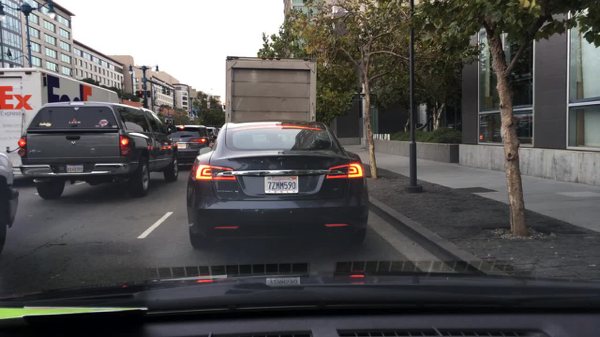car: (187, 122, 369, 249), (15, 103, 179, 196), (1, 152, 20, 253), (169, 125, 213, 166), (206, 127, 221, 146)
traffic light: (160, 85, 165, 96), (136, 90, 142, 99), (167, 118, 171, 126), (187, 110, 191, 116), (167, 87, 169, 96)
truck: (1, 68, 124, 184), (224, 55, 317, 128)
